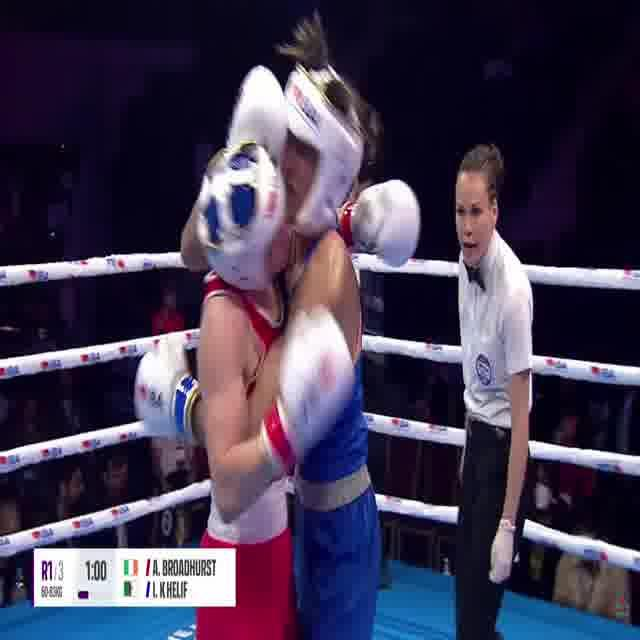blue-player: (130, 4, 385, 640)
red-player: (186, 134, 423, 640)
referee: (442, 137, 532, 640)
